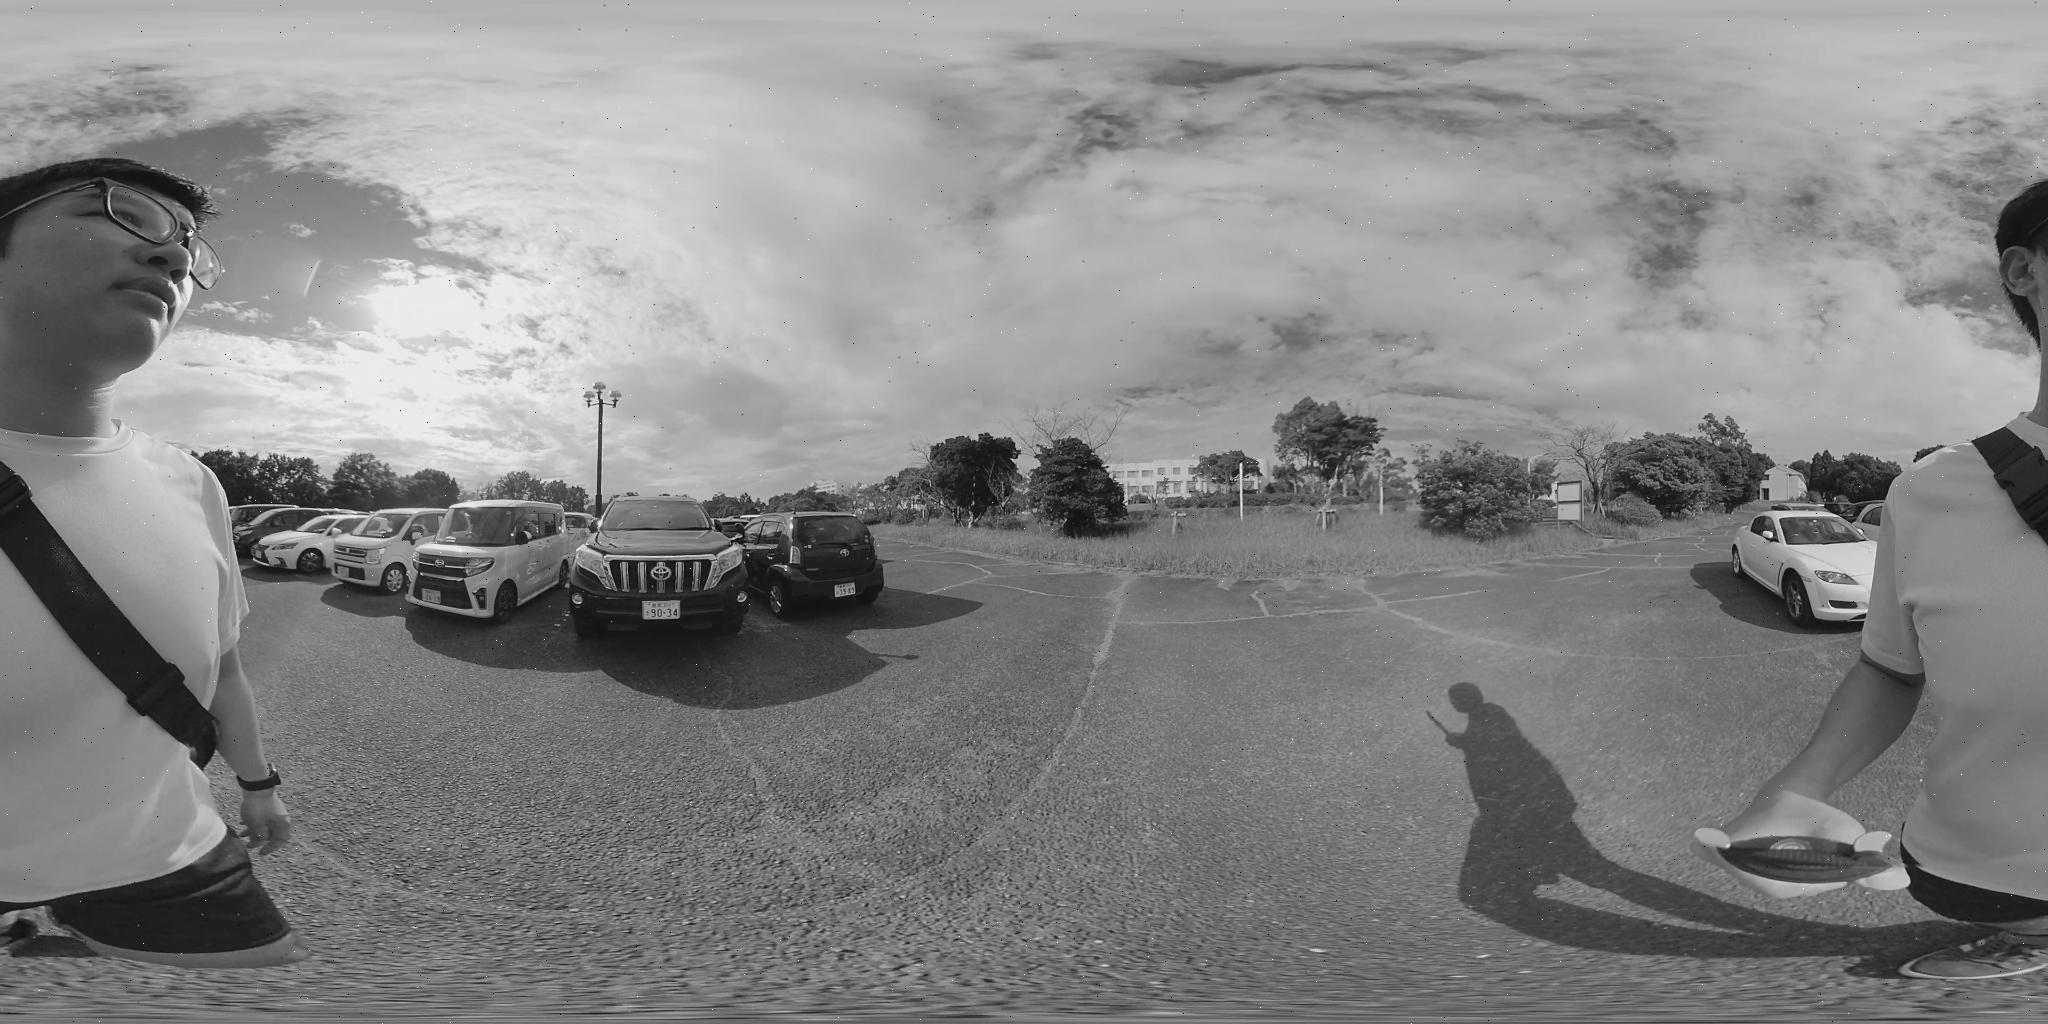car: (576, 495, 738, 639), (404, 505, 584, 622), (1735, 505, 1880, 627), (731, 513, 889, 607), (324, 511, 444, 585), (232, 508, 347, 572)
